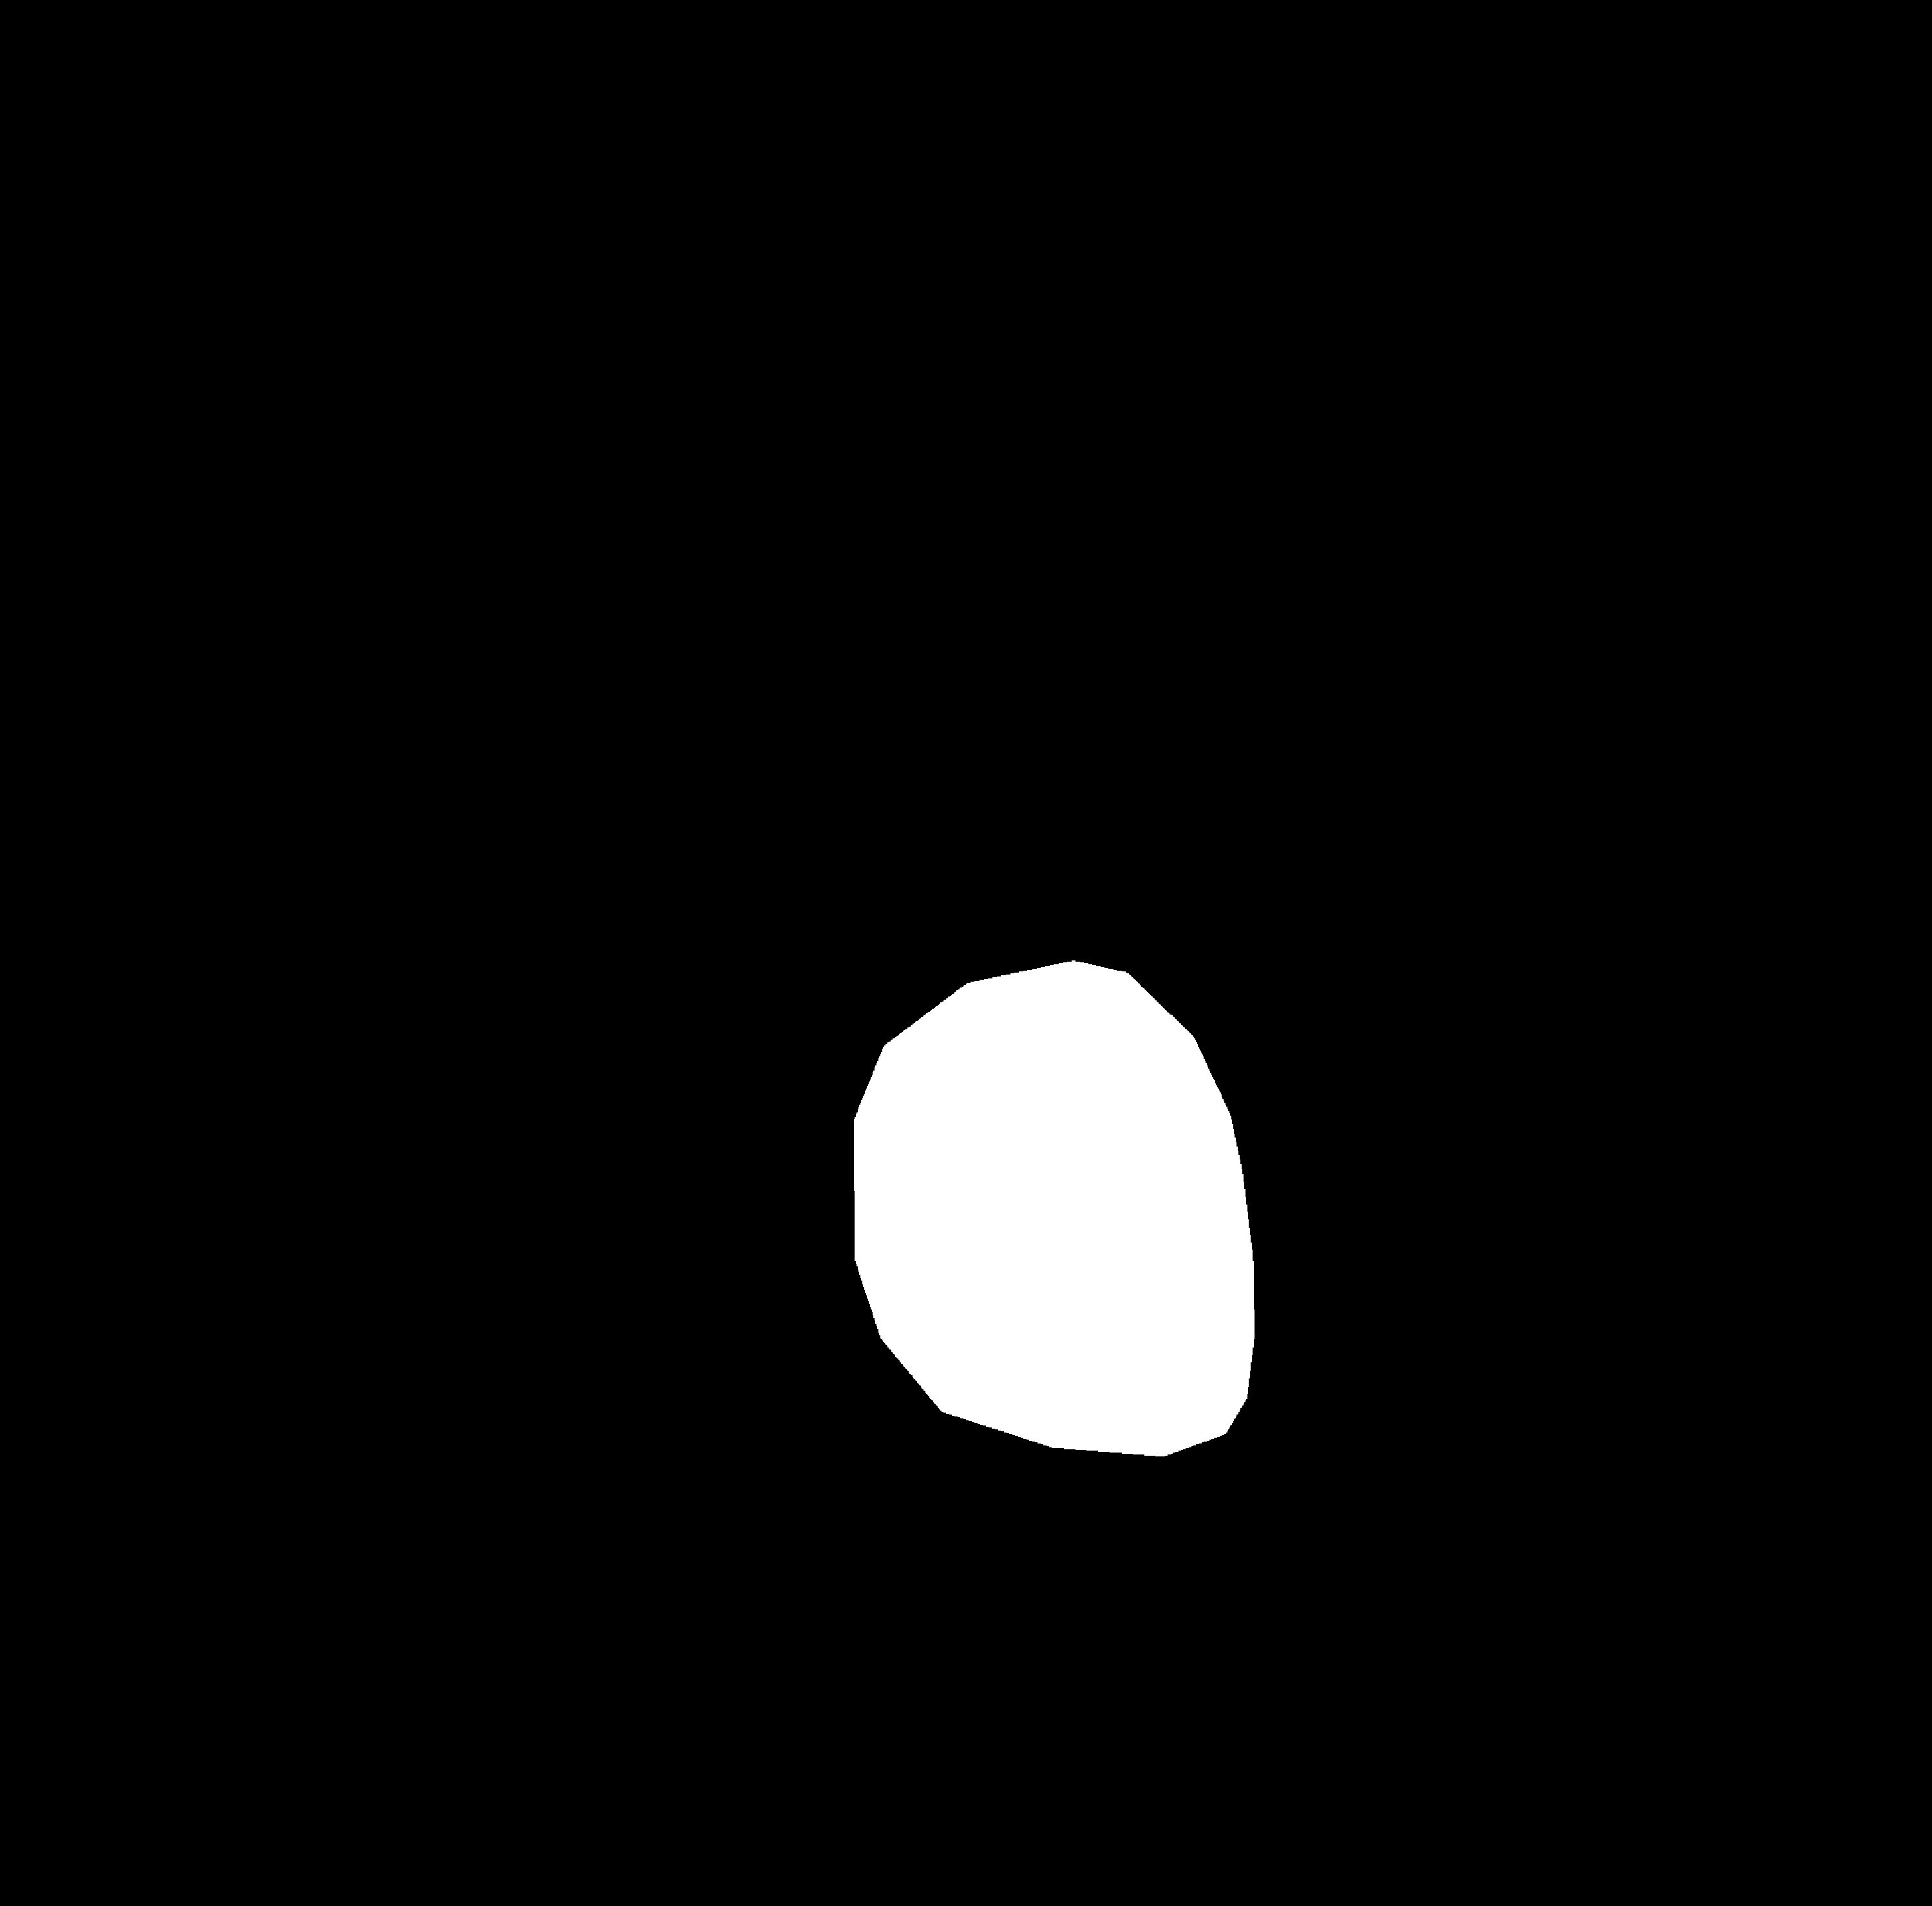heart: (817, 916, 1255, 1470)
left_lung: (363, 248, 928, 1653)
right_lung: (1040, 237, 1531, 1641)
